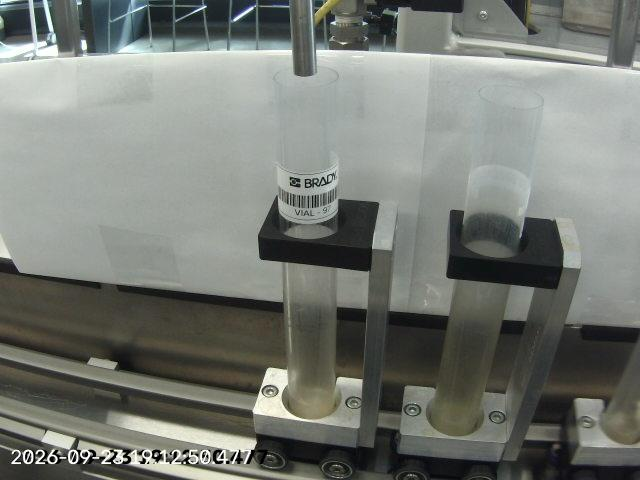vial: (426, 83, 546, 433), (271, 64, 341, 420)
